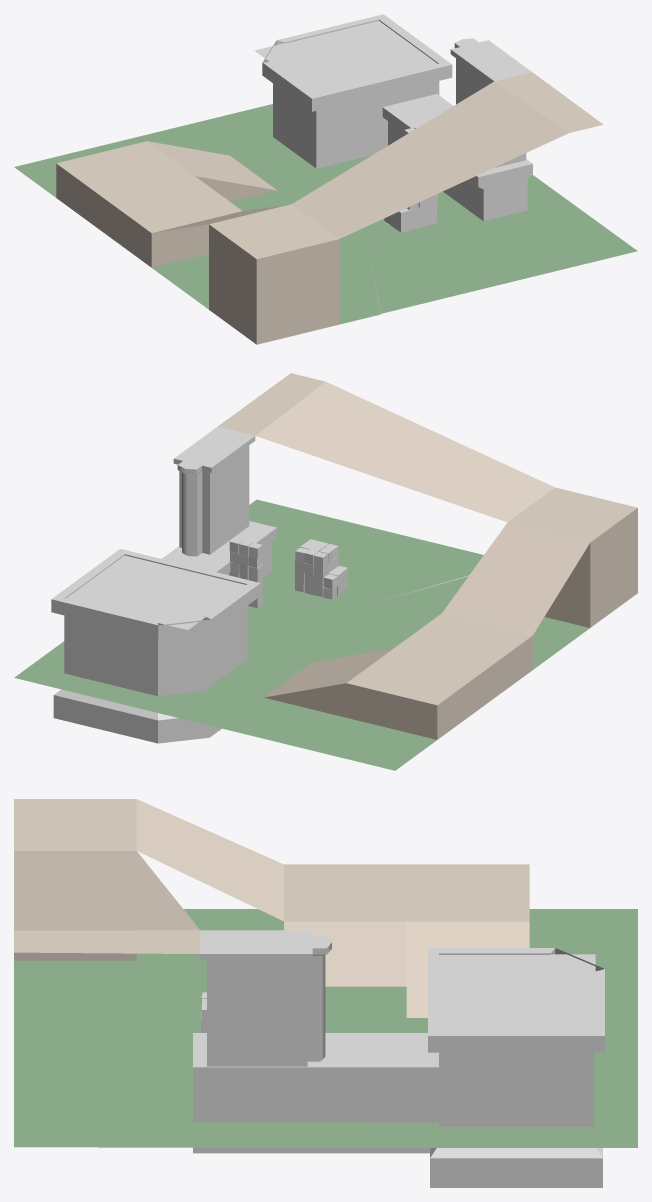
Rendered from character_controller2.glb.
3 views of the same model, one above another, from view 1: azimuth 30°, elevation 25°; view 2: azimuth 150°, elevation 25°; view 3: azimuth 270°, elevation 25° (orthographic). The views are drawn at different scales.
Parts seen in each view (by area): view 1: Object_CombinedLevel.002, Ground, Ramp.001; view 2: Object_CombinedLevel.002, Ground, Ramp.001; view 3: Object_CombinedLevel.002, Ground, Ramp, Ramp.001.
Boxes of the visible parts, box(x1,y1,x2,y2) form: Object_CombinedLevel.002: box(56, 14, 603, 344); Ground: box(14, 104, 637, 324); Ramp.001: box(148, 141, 277, 201); Object_CombinedLevel.002: box(51, 373, 637, 743); Ground: box(14, 499, 589, 770); Ramp.001: box(264, 648, 393, 717); Object_CombinedLevel.002: box(14, 799, 604, 1187); Ground: box(14, 909, 637, 1147); Ramp: box(284, 921, 406, 986); Ramp.001: box(406, 921, 529, 1017).
Bounding box in the file's own units: 80.51 × 36.17 × 88.8.
